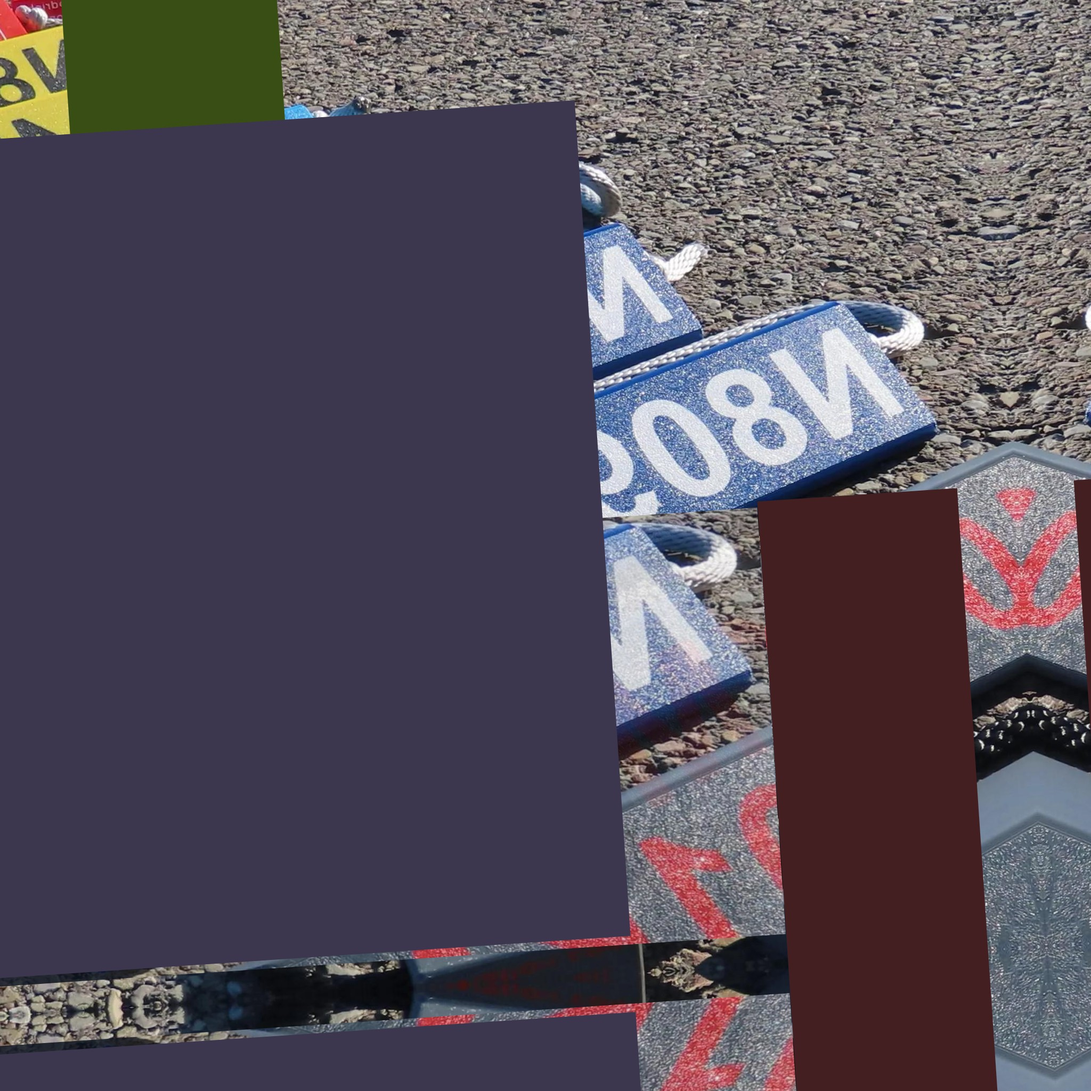chock: (0, 507, 786, 992), (224, 288, 965, 689), (436, 439, 1035, 880), (65, 218, 718, 544), (0, 156, 530, 442), (0, 97, 376, 345), (736, 750, 1045, 966), (0, 51, 253, 257), (749, 947, 1058, 1091), (98, 481, 312, 588), (0, 15, 144, 153)
